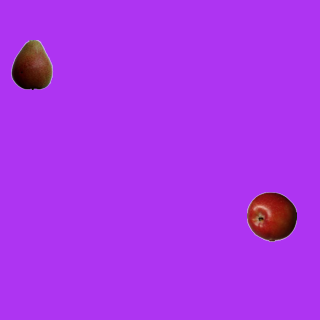Apple Braeburn: (246, 191, 296, 241)
Pear Forelle: (6, 39, 56, 89)
